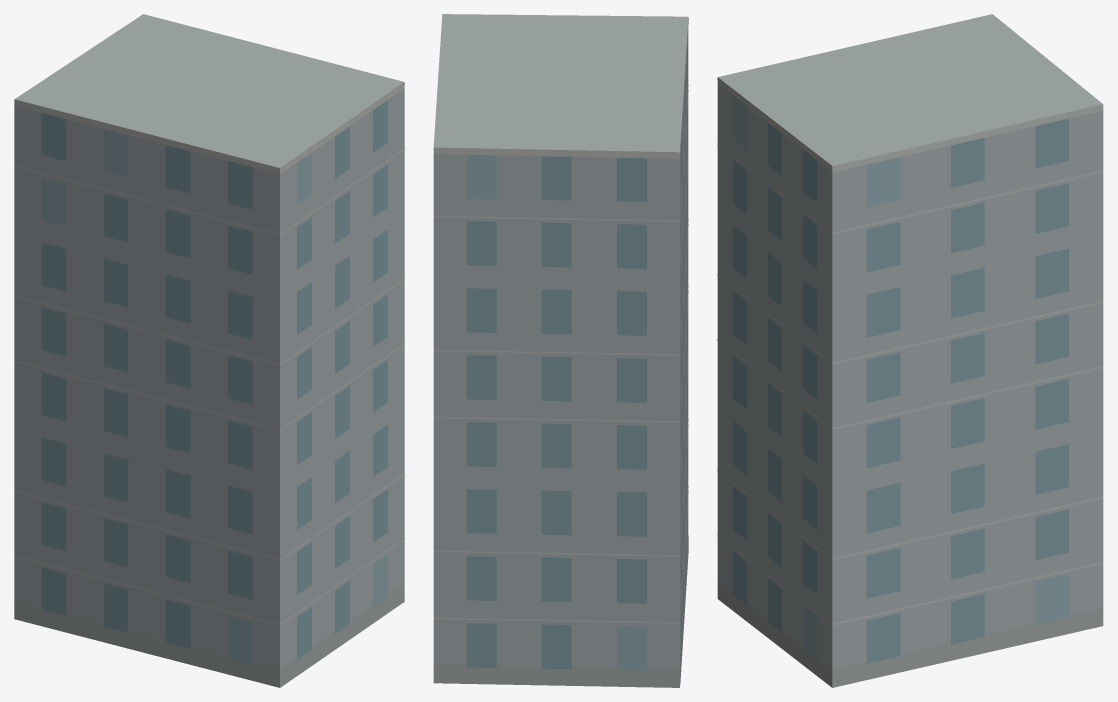
File: survey-upis-32959239.glb
3 renders of one model, left to right at view 1: azimuth 30°, elevation 25°; view 2: azimuth 150°, elevation 25°; view 3: azimuth 270°, elevation 25°, orthographic. The views are drawn at different scales.
Visible parts, largest first — view 1: survey-upis-32959239.tmp; view 2: survey-upis-32959239.tmp; view 3: survey-upis-32959239.tmp.
Boxes of the visible parts, <box> form: survey-upis-32959239.tmp: <box>14,14,404,687</box>; survey-upis-32959239.tmp: <box>433,14,688,687</box>; survey-upis-32959239.tmp: <box>717,14,1103,687</box>.
Bounding box in the file's own units: 12.4 × 19.8 × 13.28.
